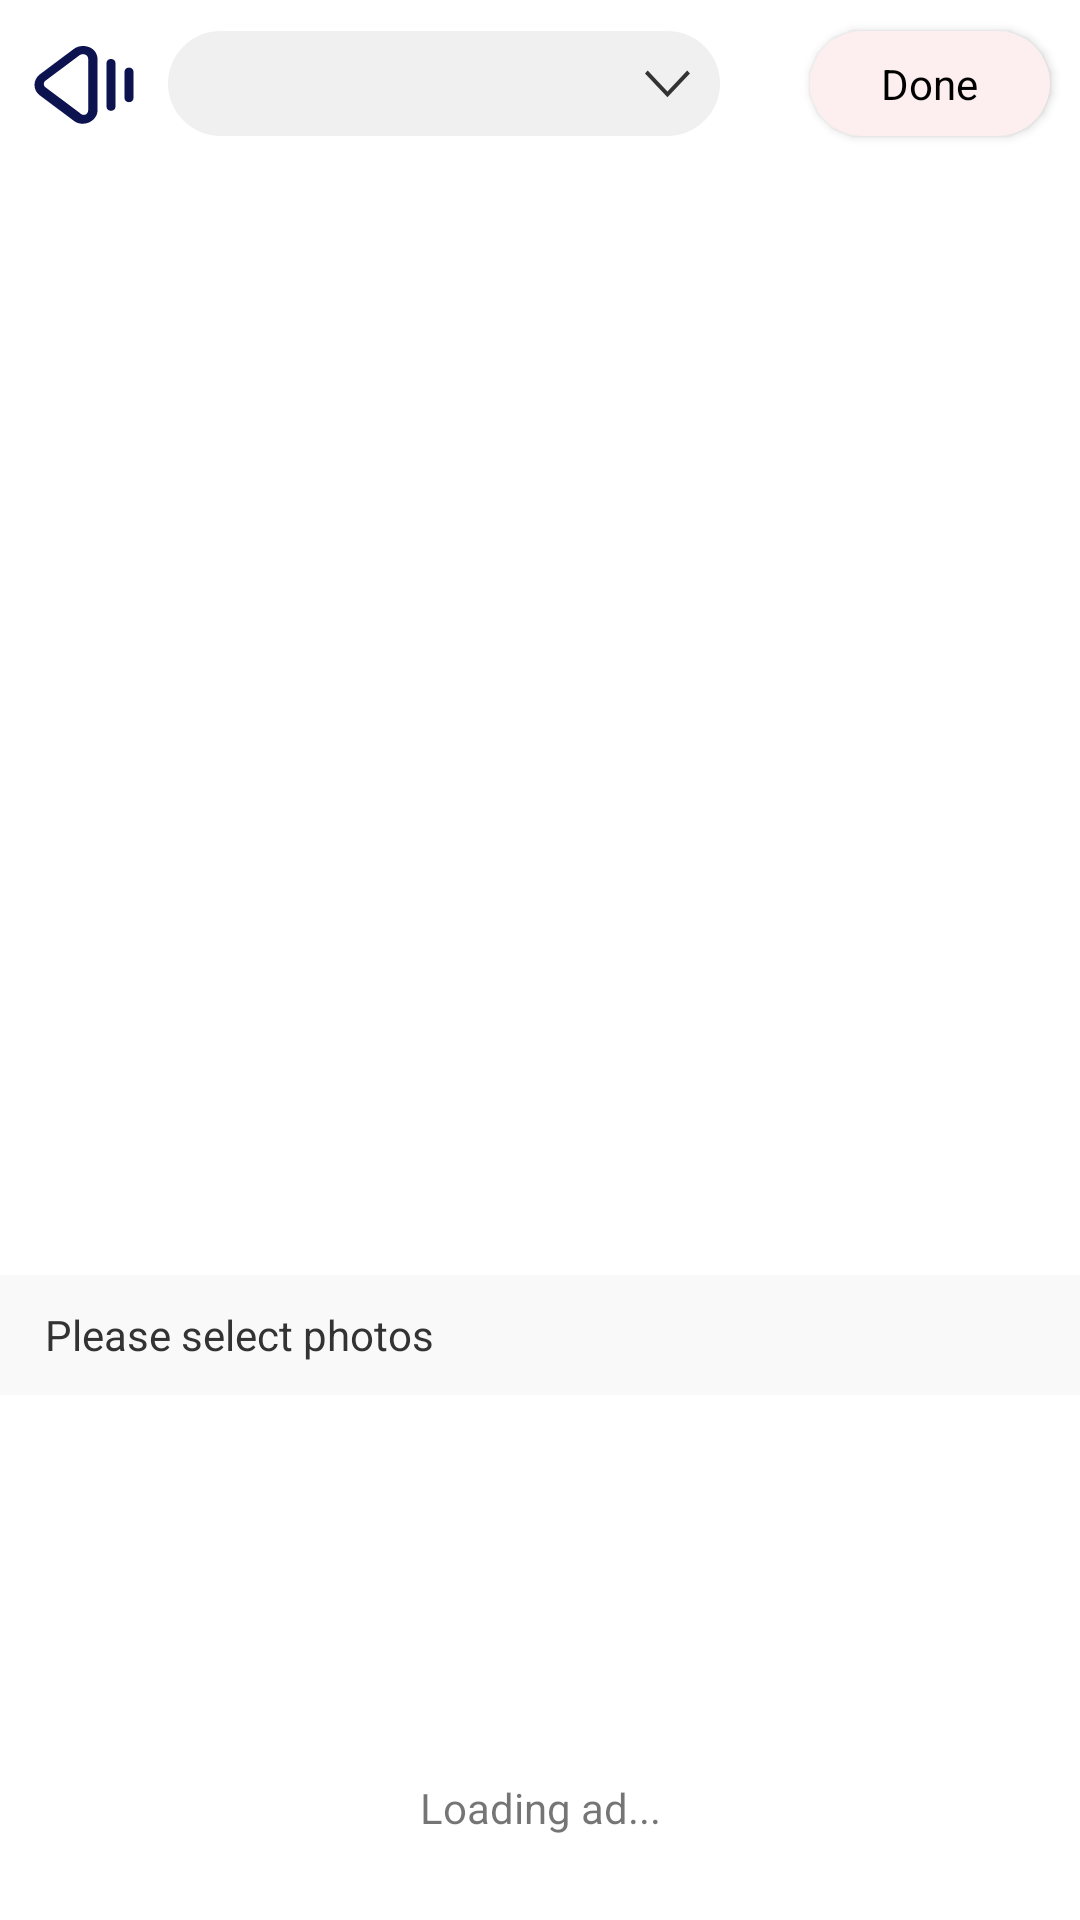

Locate icon controls on the screen. Image size 1080x1920, boxes as [left=x1, top=y1, right=x2, bottom=y2].
back: [left=34, top=46, right=134, bottom=124]
down arrow: [left=645, top=70, right=690, bottom=97]
